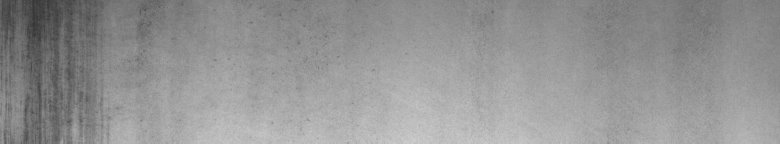ka: (4, 4, 151, 136)
